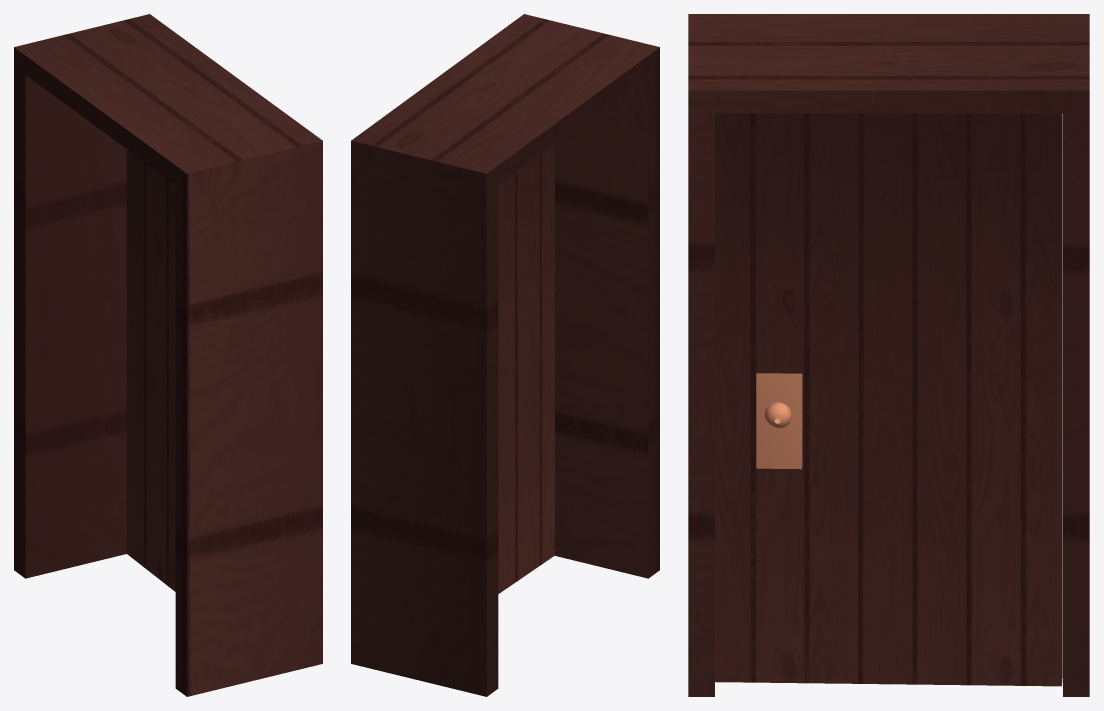
The model's file is door.fbx.
The picture shows the model from 3 angles, left to right: view 1: azimuth 30°, elevation 25°; view 2: azimuth 150°, elevation 25°; view 3: azimuth 270°, elevation 25°; orthographic projection. The views are drawn at different scales.
Parts seen in each view (by area): view 1: Cube.001, Cube; view 2: Cube.001, Cube; view 3: Cube, Cube.001.
Part boxes in pixels (x1,y1,x2,y2): Cube.001: (14, 14, 322, 696); Cube: (126, 149, 175, 591); Cube.001: (351, 14, 659, 696); Cube: (498, 143, 554, 593); Cube: (715, 113, 1062, 686); Cube.001: (688, 14, 1089, 696).
Bounding box in the file's own units: 131 × 461 × 277.
